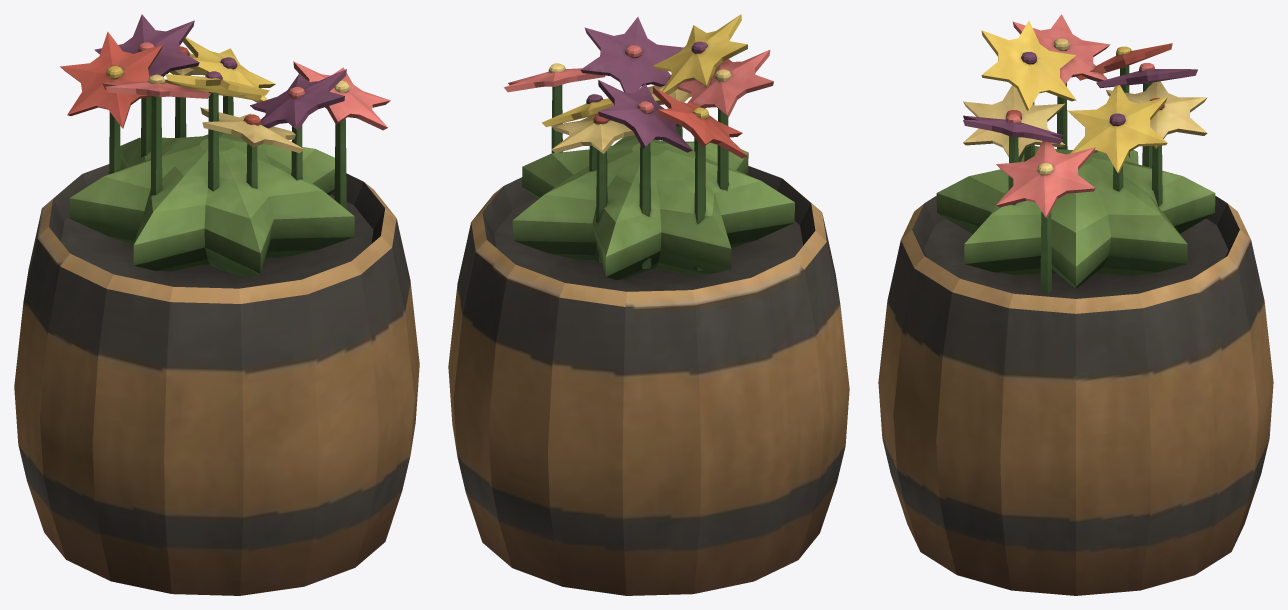
File: planter.glb
3 views of the same model, side by side, from view 1: azimuth 30°, elevation 25°; view 2: azimuth 150°, elevation 25°; view 3: azimuth 270°, elevation 25° (orthographic). The views are drawn at different scales.
Visible parts, largest first — view 1: Planter; view 2: Planter; view 3: Planter.
Boxes of the visible parts, <box> form: Planter: <box>14,14,419,595</box>; Planter: <box>448,14,849,595</box>; Planter: <box>878,14,1273,595</box>.
Size of the model in its own units: 0.704 by 0.9309 by 0.704.
1 material, 1 textured.
